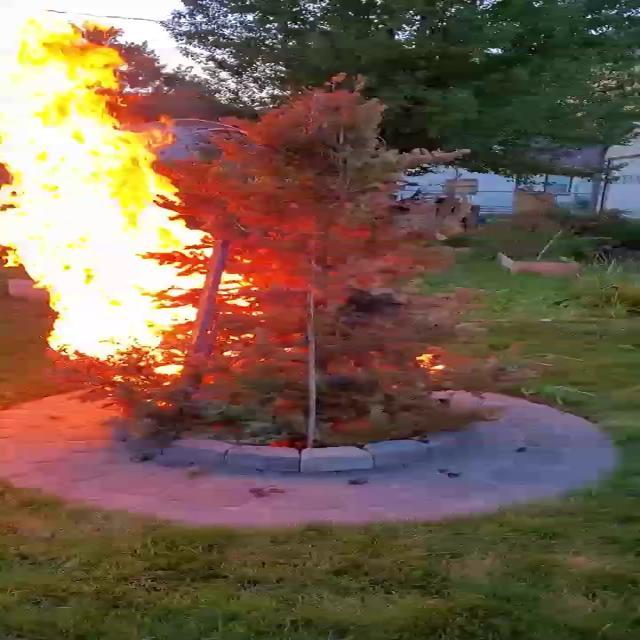Fire: (1, 19, 256, 365)
